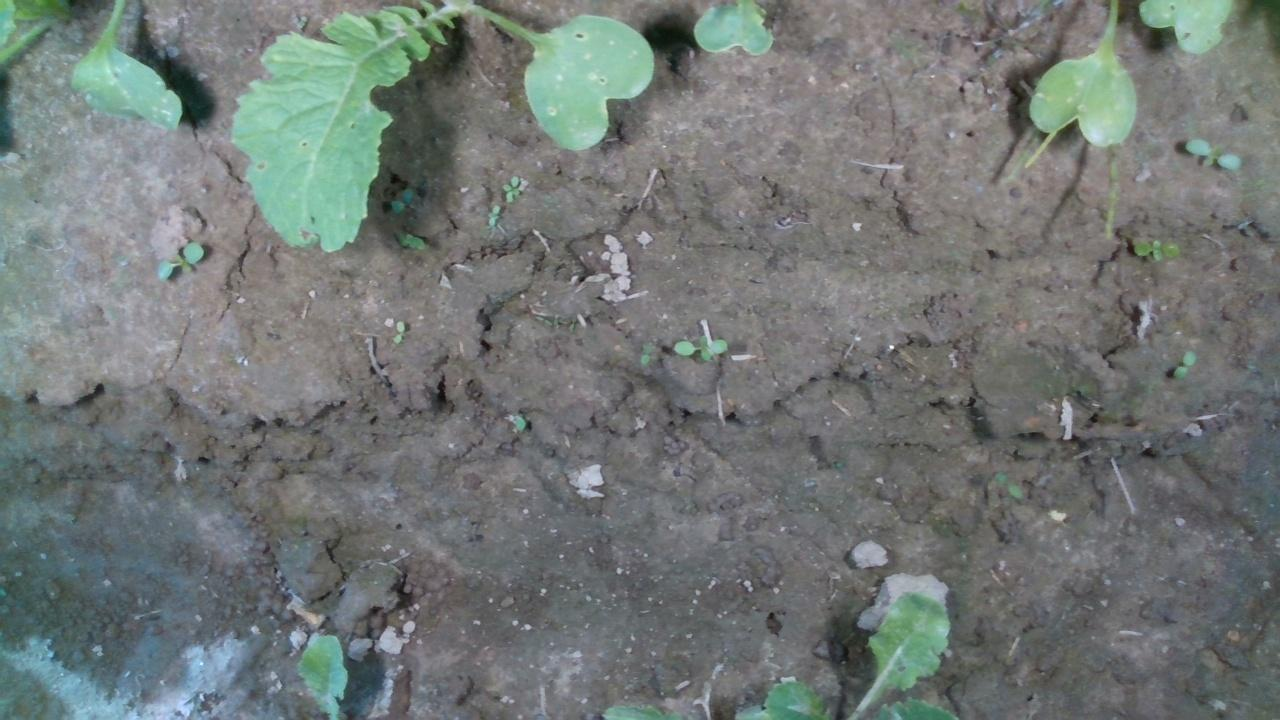weed: (154, 237, 205, 281)
